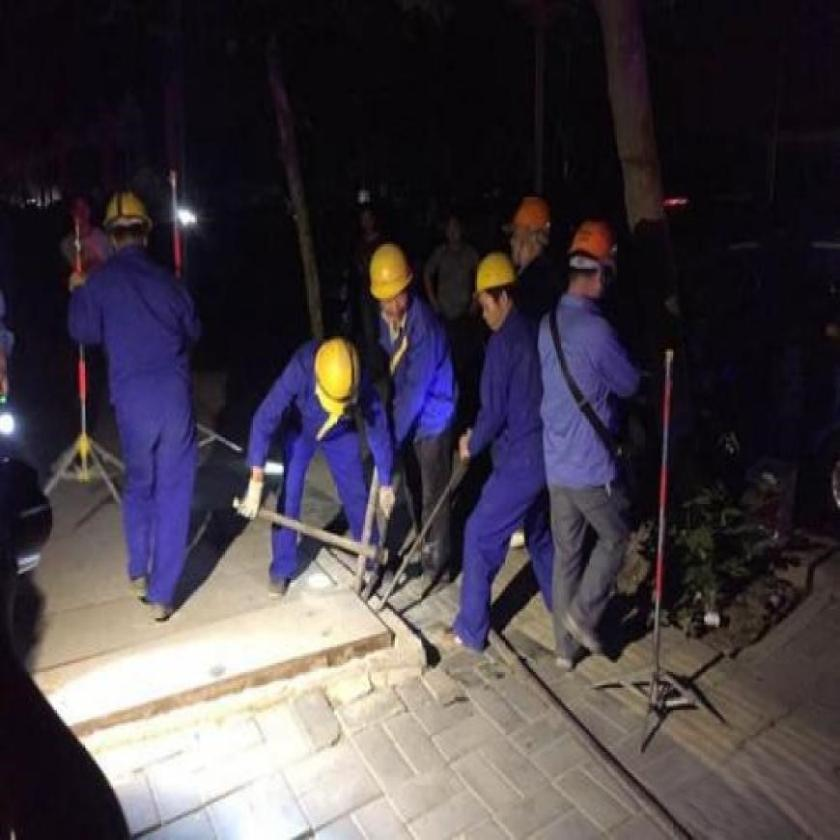Con_casco: (87, 177, 166, 274), (366, 225, 418, 338), (562, 206, 620, 302), (469, 242, 520, 336)
